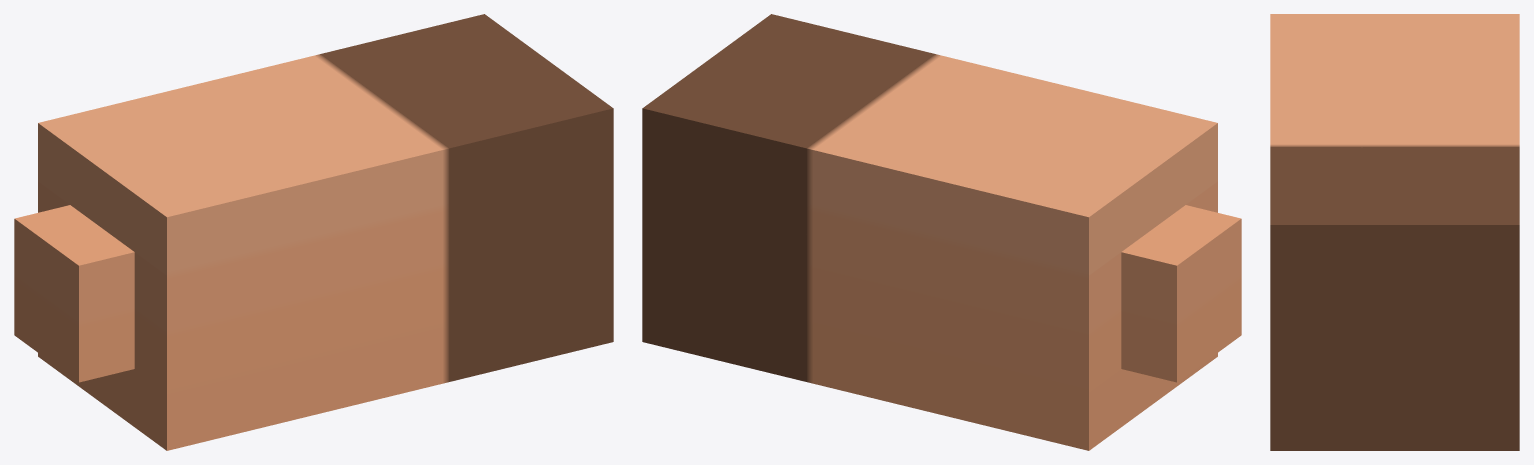
File: Elbow083.fbx
The picture shows the model from 3 angles, left to right: view 1: azimuth 30°, elevation 25°; view 2: azimuth 150°, elevation 25°; view 3: azimuth 270°, elevation 25°; orthographic projection. The views are drawn at different scales.
Visible parts, largest first — view 1: Elbow083; view 2: Elbow083; view 3: Elbow083.
Boxes of the visible parts, box(x1,y1,x2,y2) form: Elbow083: box(14, 14, 613, 450); Elbow083: box(642, 14, 1241, 450); Elbow083: box(1270, 14, 1519, 450).
Bounding box in the file's own units: 9 × 4 × 4.
